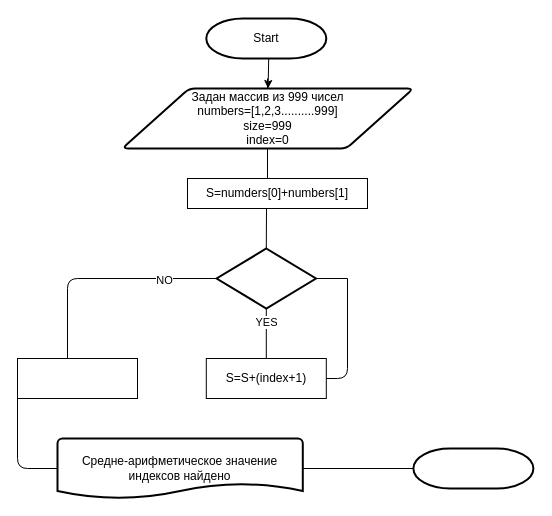
This 552x516 diagram has some shape labels left out. The shapes that lost their labels are listed below. From the top down, each one's box as (x1, y1, x2, y2) in pixels, then its label:
(215, 247, 316, 309): index<size
(16, 358, 138, 398): S=S/size
(412, 447, 534, 489): Stop
